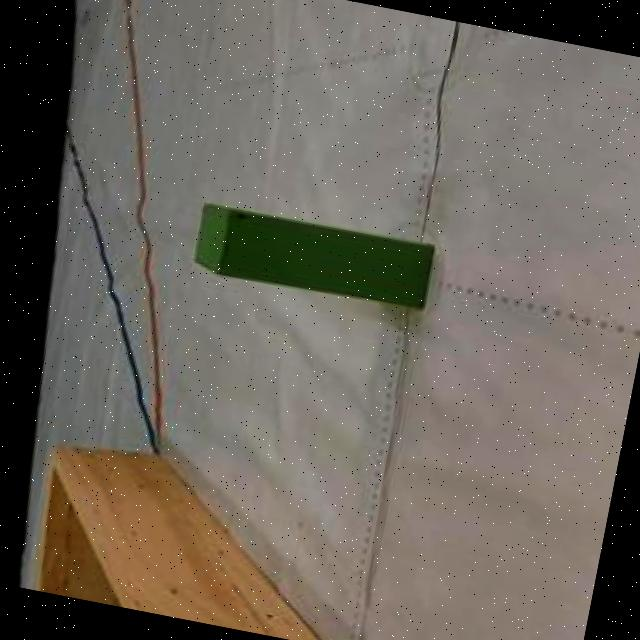greenbox: (183, 190, 446, 321)
